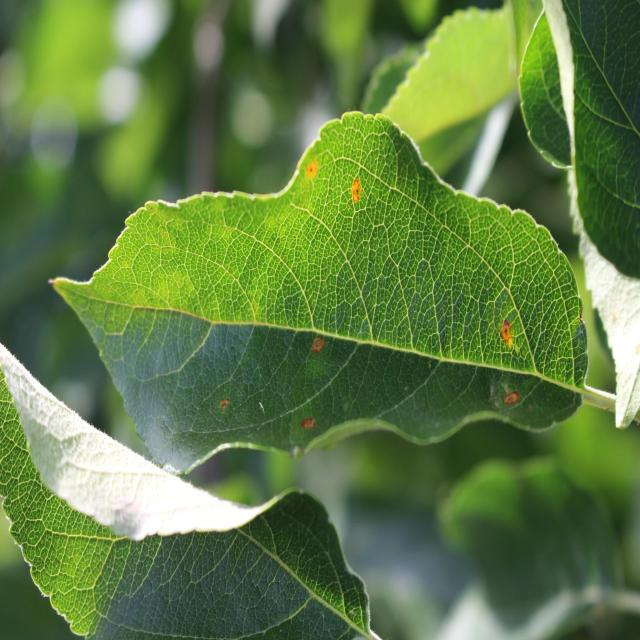Rust: (306, 318, 334, 374), (296, 141, 325, 190), (499, 375, 524, 423), (493, 308, 515, 353), (344, 172, 366, 214), (294, 410, 322, 440), (212, 395, 237, 418)
